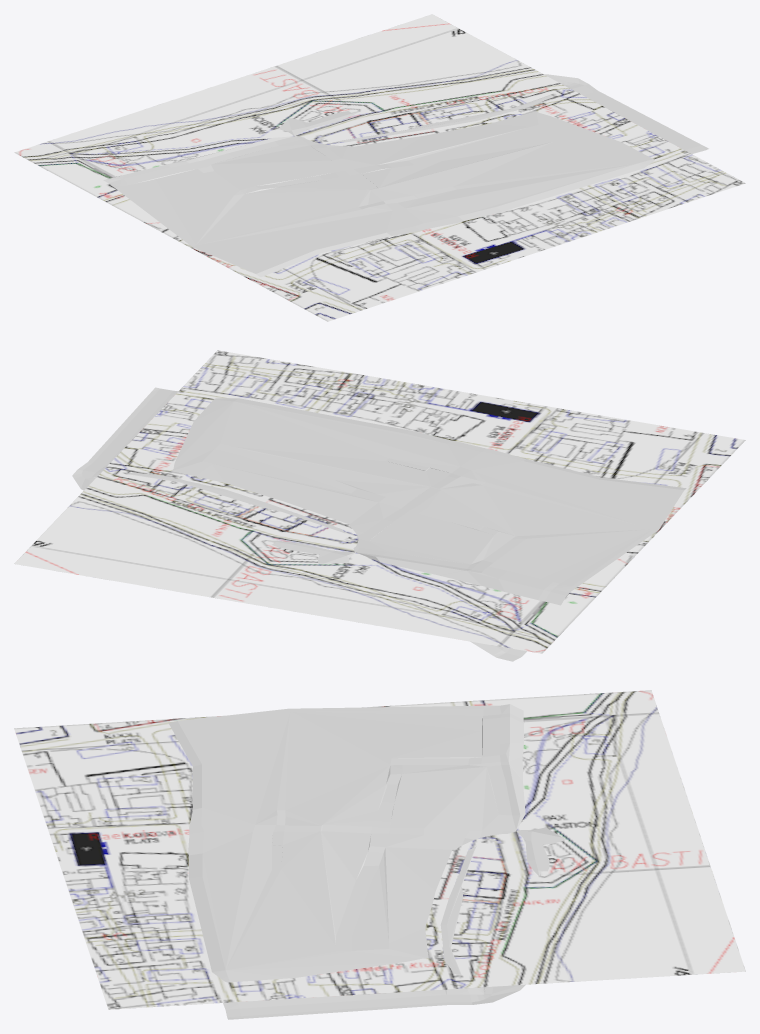
File: maapind.FBX
3 renders of one model, top to bottom at view 1: azimuth 30°, elevation 25°; view 2: azimuth 150°, elevation 25°; view 3: azimuth 270°, elevation 25°, orthographic. The views are drawn at different scales.
Parts seen in each view (by area): view 1: Plane001, teed; view 2: Plane001, teed; view 3: Plane001, teed.
Boxes of the visible parts, x1=… form: Plane001: x1=14, y1=14, x2=745, y2=321; teed: x1=103, y1=74, x2=708, y2=277; Plane001: x1=14, y1=350, x2=745, y2=653; teed: x1=72, y1=387, x2=686, y2=661; Plane001: x1=14, y1=690, x2=745, y2=1009; teed: x1=168, y1=704, x2=564, y2=1019.
Size of the model in its own units: 34.14 by 2.17 by 32.37.
Materials: 1 (1 with a texture image).
